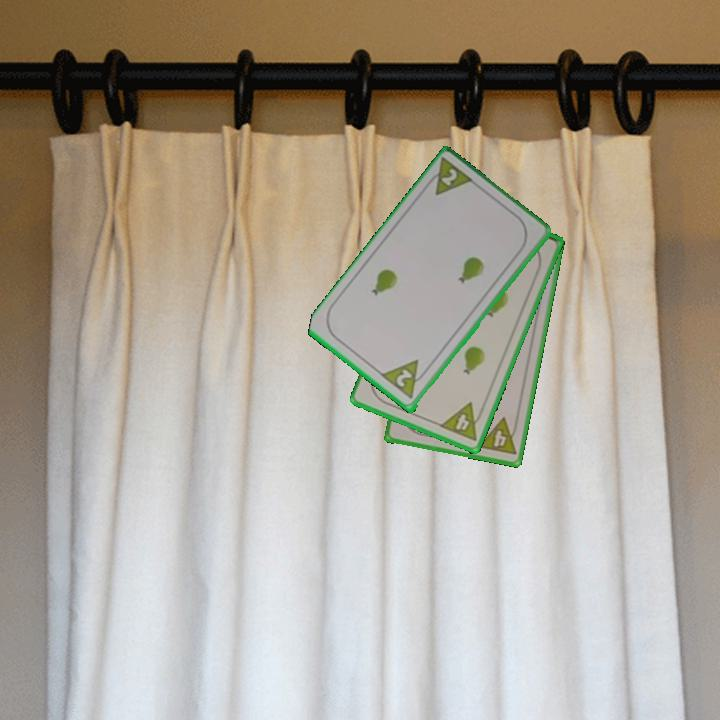2p: (421, 155, 478, 199), (379, 356, 432, 402)
4p: (436, 399, 488, 444), (474, 414, 521, 458)
